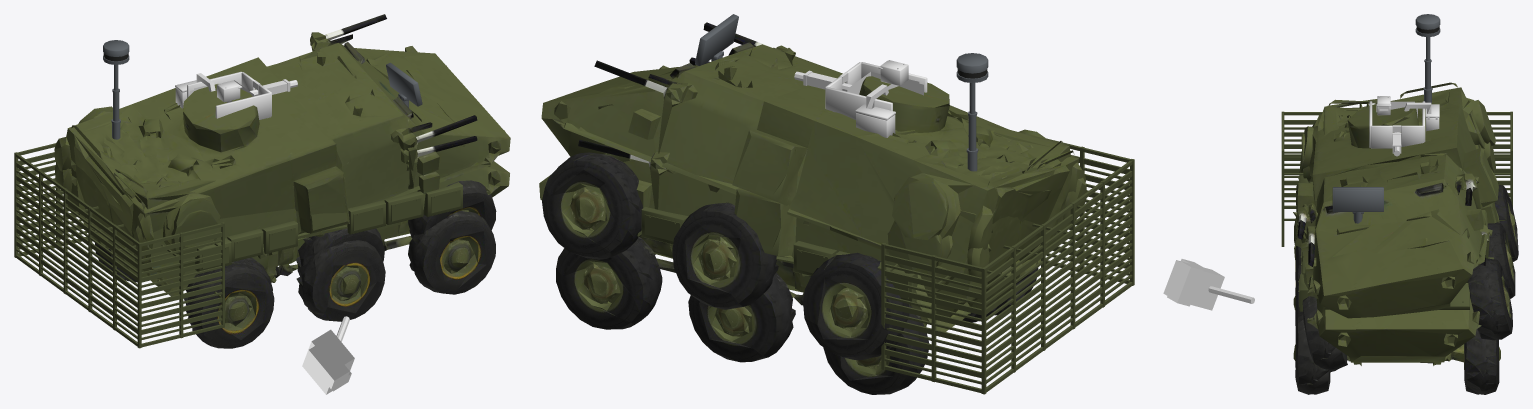
The model's file is apc_kipod.glb.
3 renders of one model, left to right at view 1: azimuth 30°, elevation 25°; view 2: azimuth 150°, elevation 25°; view 3: azimuth 270°, elevation 25°, orthographic. The views are drawn at different scales.
Visible parts, largest first — view 1: WRECK_hull_hull, hull_rubber, hull_hull, kit_armour_3_hull_hull_far, kit_armour_3_hull_hull_near, kit_armour_3_hull_hull, kit_armour_2_hull_hull, WRECK_hull_rubber, kit_firepower_3_turret_metal, WRECK_turret_metal, WRECK_turret_plate, kit_sensors_3_hull_hull (+3 smaller); view 2: WRECK_hull_hull, WRECK_hull_rubber, hull_hull, hull_rubber, kit_armour_3_hull_hull_far, kit_armour_3_hull_hull_near, kit_armour_3_hull_hull, kit_armour_2_hull_hull, kit_firepower_3_turret_metal, kit_firepower_2_turret_metal, kit_sensors_3_hull_hull, kit_sensors_2_hull_hull (+2 smaller); view 3: WRECK_hull_hull, hull_hull, WRECK_hull_rubber, hull_rubber, WRECK_turret_metal, kit_sensors_2_hull_hull, kit_armour_3_hull_hull, kit_firepower_3_turret_metal, kit_armour_3_hull_hull_far, WRECK_turret_plate, kit_sensors_3_hull_hull, kit_armour_3_hull_hull_near (+3 smaller).
Boxes of the visible parts, box(x1,y1,x2,y2) form: WRECK_hull_hull: box(54, 14, 510, 295); hull_rubber: box(95, 211, 495, 348); hull_hull: box(55, 136, 509, 324); kit_armour_3_hull_hull_far: box(16, 152, 222, 334); kit_armour_3_hull_hull_near: box(16, 154, 222, 339); kit_armour_3_hull_hull: box(14, 142, 224, 348); kit_armour_2_hull_hull: box(195, 182, 462, 271); WRECK_hull_rubber: box(184, 180, 496, 316); kit_firepower_3_turret_metal: box(187, 71, 271, 119); WRECK_turret_metal: box(302, 316, 354, 394); WRECK_turret_plate: box(305, 340, 351, 391); kit_sensors_3_hull_hull: box(103, 40, 129, 139); WRECK_hull_hull: box(541, 22, 1086, 357); WRECK_hull_rubber: box(542, 152, 1009, 360); hull_hull: box(539, 57, 1085, 388); hull_rubber: box(556, 237, 1038, 394); kit_armour_3_hull_hull_far: box(884, 155, 1132, 378); kit_armour_3_hull_hull_near: box(884, 159, 1132, 384); kit_armour_3_hull_hull: box(881, 138, 1134, 394); kit_armour_2_hull_hull: box(637, 207, 917, 301); kit_firepower_3_turret_metal: box(825, 62, 927, 119); kit_firepower_2_turret_metal: box(803, 70, 895, 137); kit_sensors_3_hull_hull: box(956, 53, 988, 171); kit_sensors_2_hull_hull: box(695, 14, 738, 65); WRECK_hull_hull: box(1293, 82, 1512, 318); hull_hull: box(1294, 99, 1499, 365); WRECK_hull_rubber: box(1302, 185, 1518, 372); hull_rubber: box(1293, 245, 1500, 394); WRECK_turret_metal: box(1163, 260, 1254, 310); kit_sensors_2_hull_hull: box(1332, 187, 1383, 223); kit_armour_3_hull_hull: box(1281, 111, 1512, 246); kit_firepower_3_turret_metal: box(1369, 101, 1425, 148); kit_armour_3_hull_hull_far: box(1284, 120, 1510, 197); WRECK_turret_plate: box(1167, 259, 1203, 306); kit_sensors_3_hull_hull: box(1415, 14, 1440, 103); kit_armour_3_hull_hull_near: box(1284, 122, 1510, 202).
Bounding box in the file's own units: 7.65 × 4.92 × 6.37.
1 material, 1 textured.
